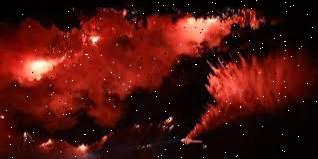fire: (2, 6, 142, 159), (159, 10, 250, 57)
